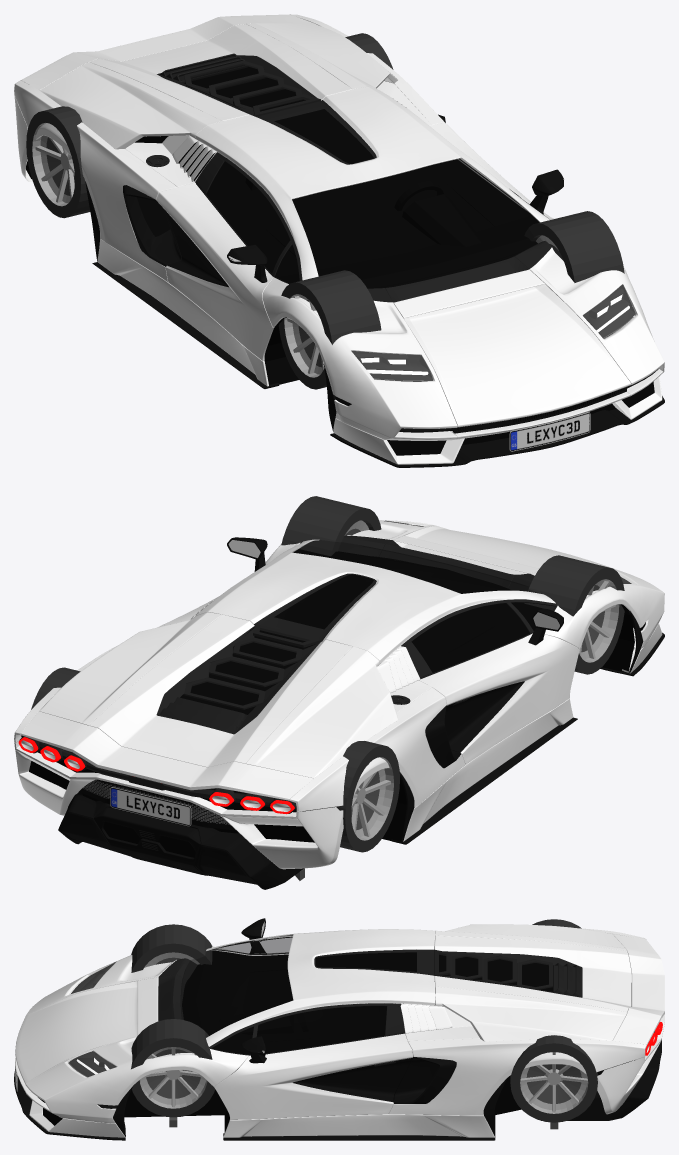
File: contage.glb
3 renders of one model, top to bottom at view 1: azimuth 30°, elevation 25°; view 2: azimuth 150°, elevation 25°; view 3: azimuth 270°, elevation 25°, orthographic. The views are drawn at different scales.
Parts seen in each view (by area): view 1: Body, WheelFR, WheelBR, WheelFL; view 2: Body, WheelFR, WheelBR, WheelFL, WheelBL; view 3: Body, WheelFL, WheelBL, WheelFR.
Part boxes in pixels (left/top/right/bottom): Body: left=14, top=14, right=664, bottom=467; WheelFR: left=278, top=270, right=381, bottom=389; WheelBR: left=26, top=106, right=90, bottom=218; WheelFL: left=524, top=211, right=624, bottom=282; Body: left=14, top=520, right=664, bottom=889; WheelFR: left=524, top=555, right=624, bottom=674; WheelBR: left=305, top=741, right=399, bottom=852; WheelFL: left=281, top=496, right=381, bottom=556; WheelBL: left=31, top=667, right=80, bottom=709; Body: left=14, top=918, right=664, bottom=1140; WheelFL: left=131, top=1019, right=215, bottom=1117; WheelBL: left=510, top=1035, right=597, bottom=1122; WheelFR: left=131, top=924, right=212, bottom=972.
Size of what is drawn, in the model's own units: 2.33 by 1.17 by 4.92.
18 materials, 4 textured.
